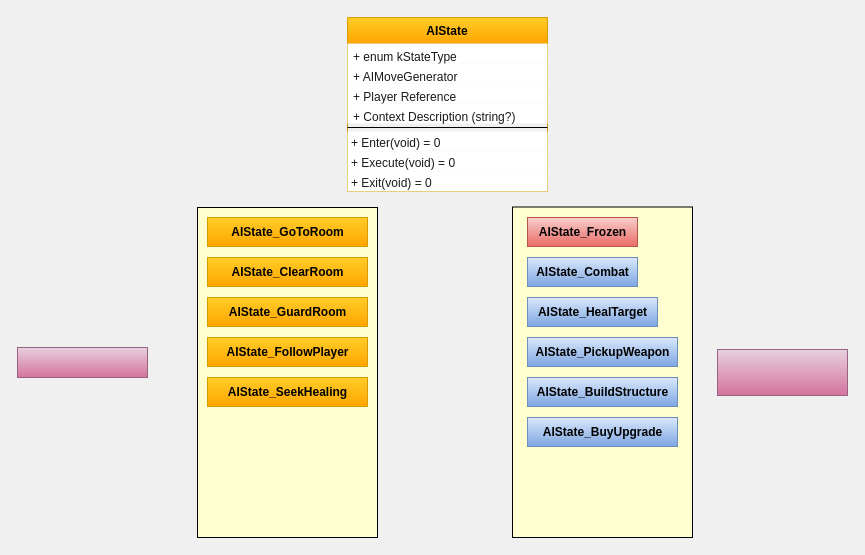
Image size: 865x555. Some labels were removed from this diagram. Each missing label, with the centre of its shape:
Event-Based States (Overrides Normal States): the point at 782,372
Normal States: the point at 82,362
